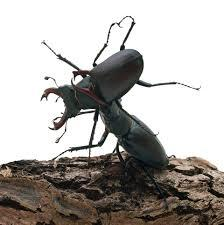Insects: (27, 11, 206, 145), (52, 77, 200, 208)
